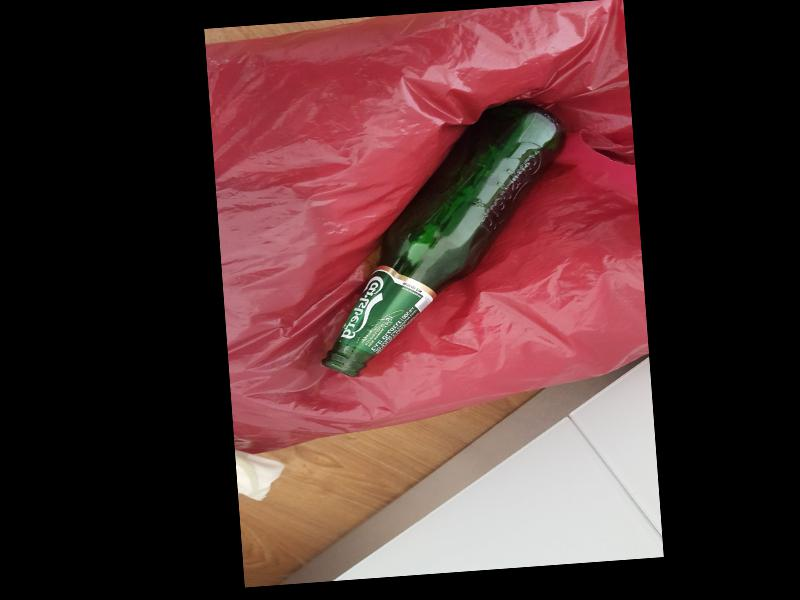Beer: (303, 98, 578, 379)
